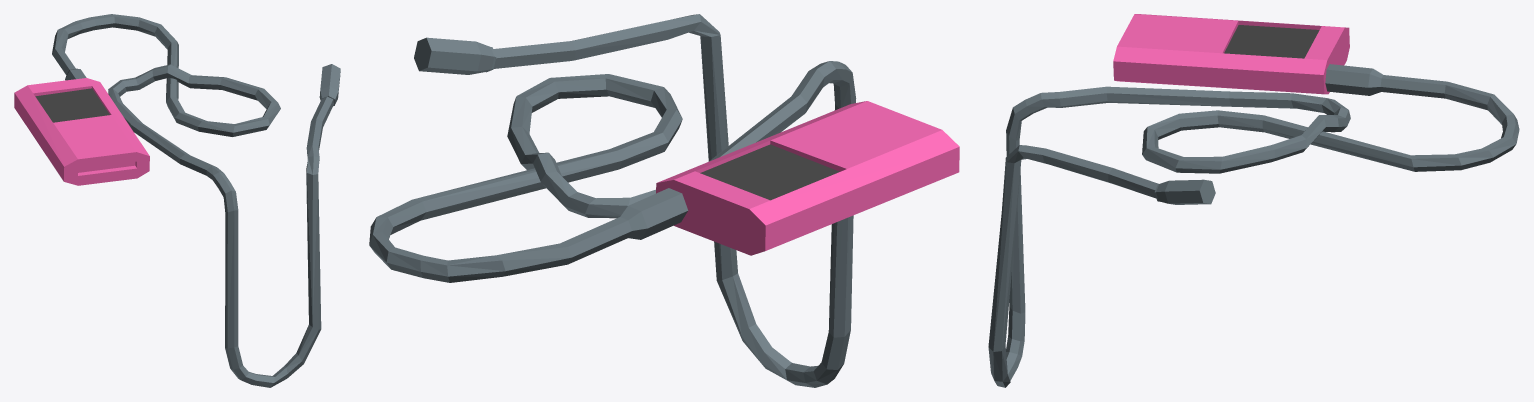
File: reader.glb
3 renders of one model, left to right at view 1: azimuth 30°, elevation 25°; view 2: azimuth 150°, elevation 25°; view 3: azimuth 270°, elevation 25°, orthographic. The views are drawn at different scales.
Parts seen in each view (by area): view 1: reader; view 2: reader; view 3: reader.
Part boxes in pixels (x1=…): reader: x1=14, y1=14, x2=340, y2=387; reader: x1=369, y1=14, x2=959, y2=387; reader: x1=988, y1=14, x2=1519, y2=387.
Bounding box in the file's own units: 0.3776 × 0.2762 × 0.4544.
